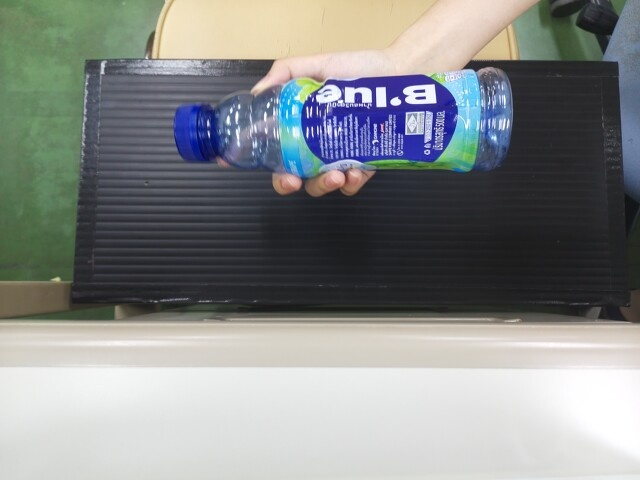plastic_bottle: (170, 73, 509, 174)
